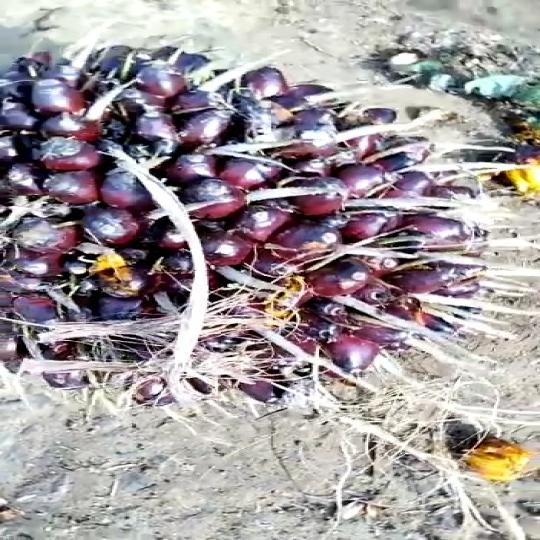kurang masak: (0, 30, 534, 394)
